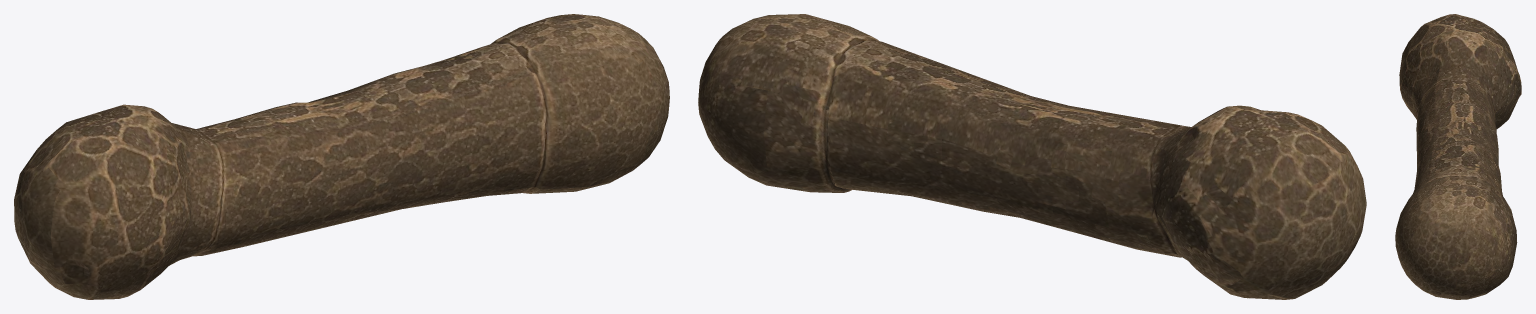
The model's file is pestle.glb.
3 views of the same model, side by side, from view 1: azimuth 30°, elevation 25°; view 2: azimuth 150°, elevation 25°; view 3: azimuth 270°, elevation 25° (orthographic). The views are drawn at different scales.
Parts seen in each view (by area): view 1: Mesh0; view 2: Mesh0; view 3: Mesh0.
Boxes of the visible parts, x1,y1,x2,y2 form: Mesh0: [14, 14, 669, 299]; Mesh0: [698, 14, 1366, 299]; Mesh0: [1395, 14, 1521, 299].
Bounding box in the file's own units: 0.18 × 0.0476 × 0.0461.
1 material, 1 textured.
